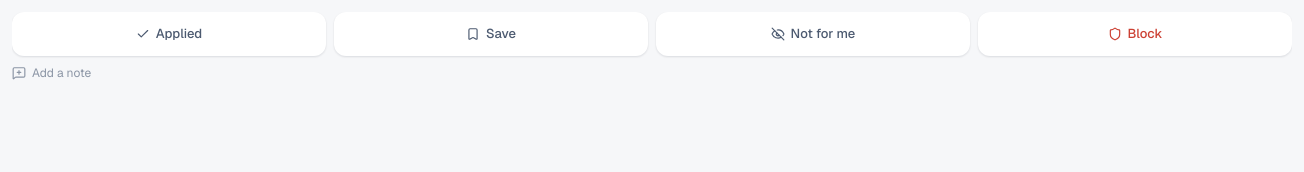
Test: <FeedbackActions /> › shows a network error when fetch rejects
Click the button "Not for me" at point(813, 34), box [656,12,970,56]
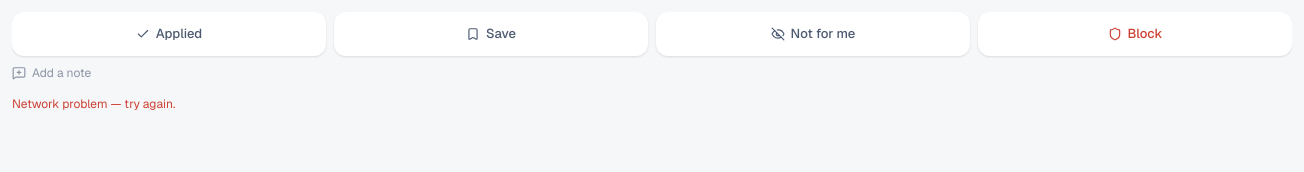
Result: the message shows "Network" at [12,96,175,112]
